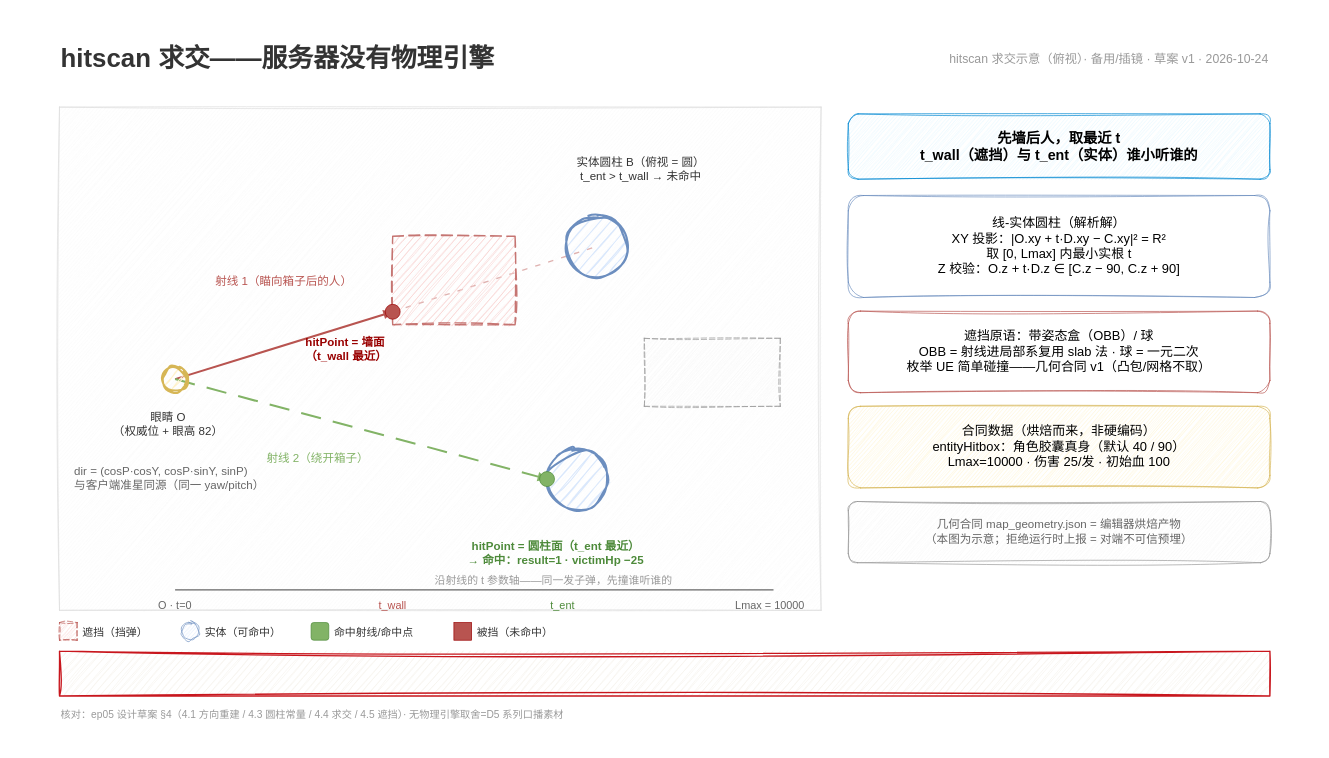
Some shapes in this 1329 by 758 pixel diagram are drawn without their labels. Here are the shapes that lost their labels. From the top down, the box of each, then its label:
(392, 235, 515, 325): 遮挡 AABB （挡弹）
(644, 338, 780, 406): 不在射线上的遮挡 ——不参与
(58, 650, 1270, 696): 先墙后人，取最近 t——解析几何，可单测（test_match 断言 11~14）
